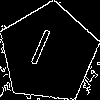I: (23, 28, 54, 76)
